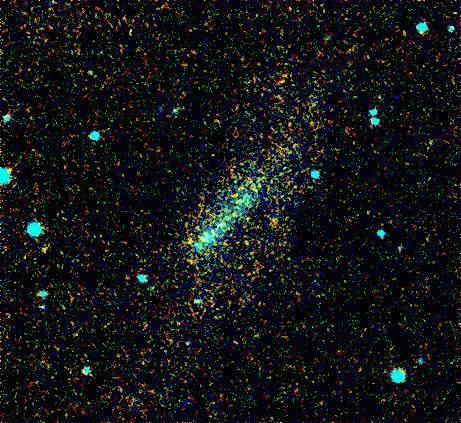star: (173, 221, 203, 251)
